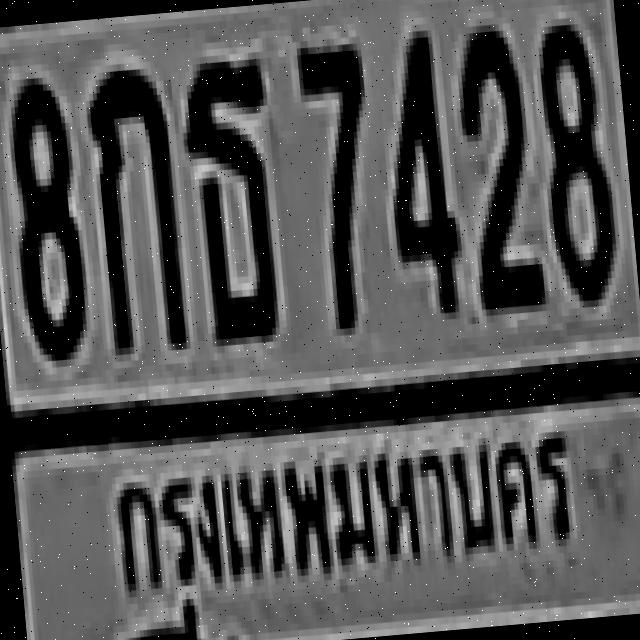10GorGai: (82, 60, 182, 349)
2: (453, 18, 541, 306)
33ThorThong: (176, 52, 284, 340)
4: (374, 22, 462, 310)
7: (292, 36, 380, 324)
8: (0, 69, 84, 356), (532, 16, 616, 302)
